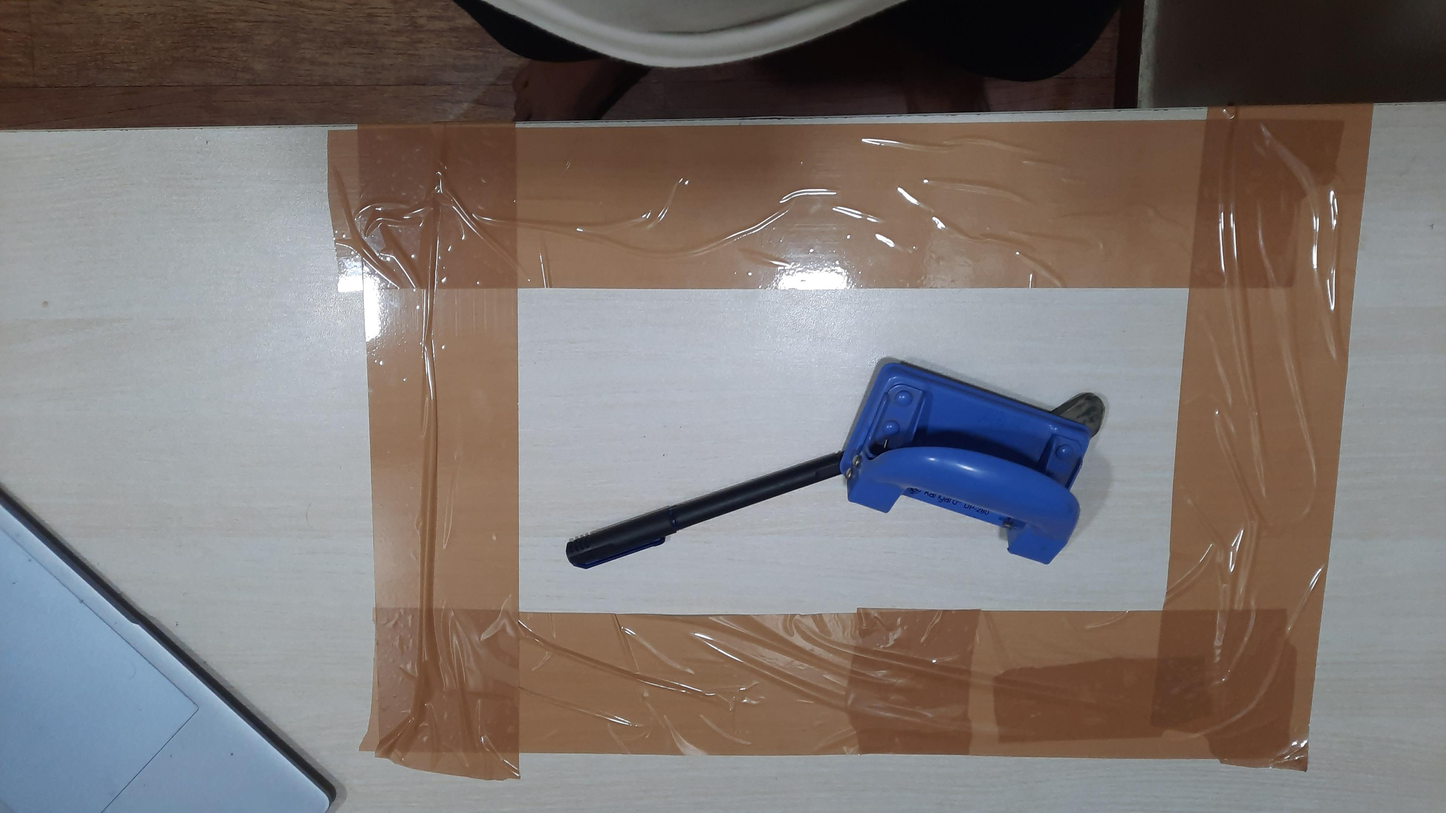Pen: (565, 450, 850, 569)
Punch: (838, 357, 1106, 565)
